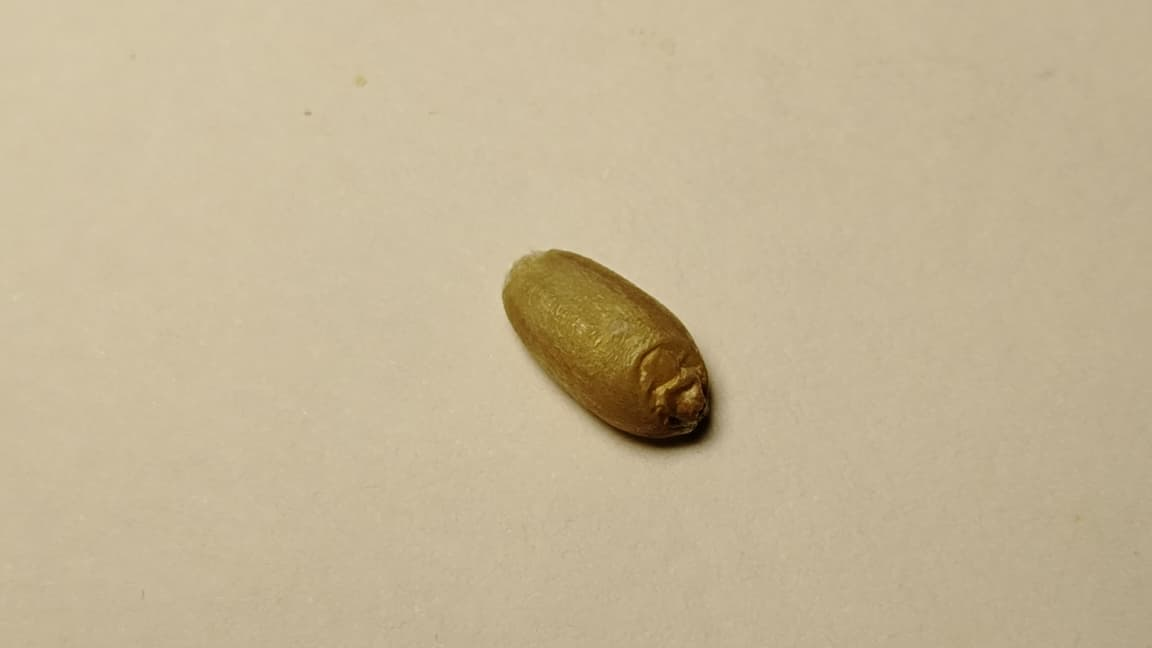healthy: (501, 248, 714, 448)
